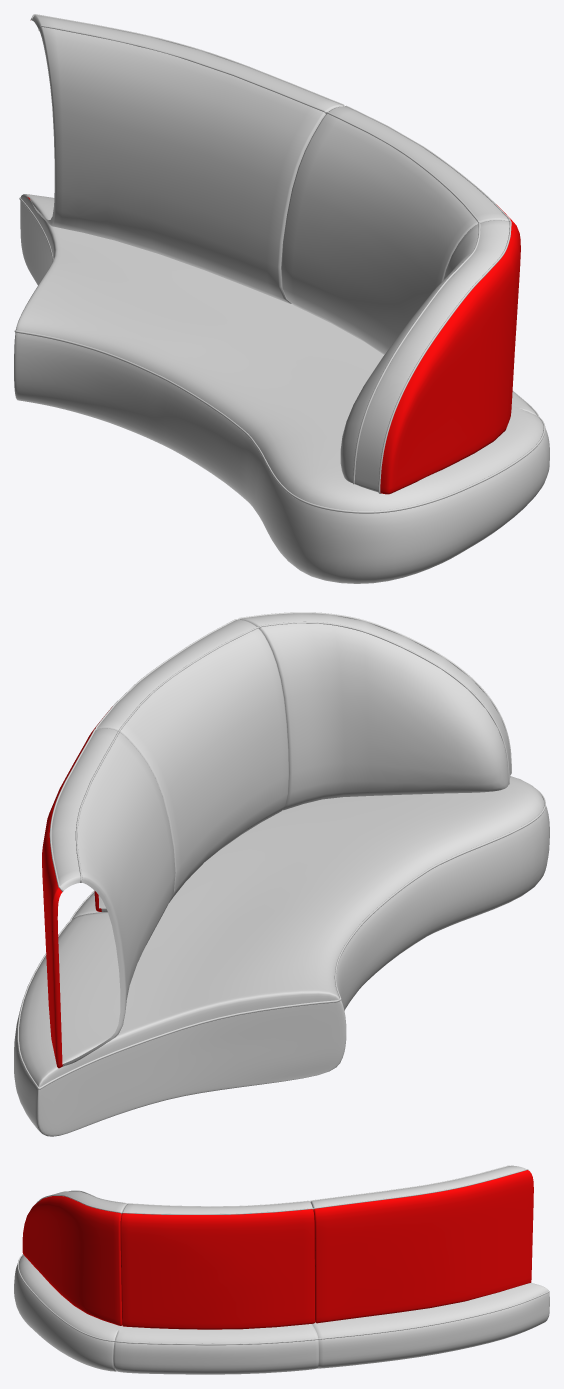
The model's file is levante_s_female.gltf.
3 renders of one model, top to bottom at view 1: azimuth 30°, elevation 25°; view 2: azimuth 150°, elevation 25°; view 3: azimuth 270°, elevation 25°, orthographic. The views are drawn at different scales.
Parts seen in each view (by area): view 1: levante_s_female; view 2: levante_s_female; view 3: levante_s_female.
Boxes of the visible parts, bbox=[...] form: levante_s_female: bbox=[14, 14, 549, 583]; levante_s_female: bbox=[14, 612, 549, 1136]; levante_s_female: bbox=[14, 1165, 549, 1374].
Size of the model in its own units: 0.9381 by 0.6989 by 2.08.
